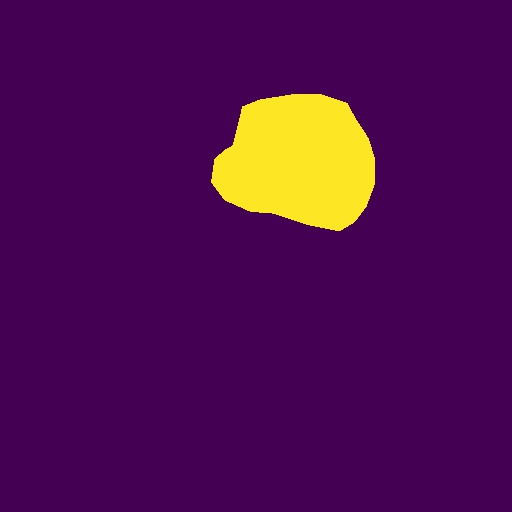Gliomia_tumour: (211, 94, 375, 231)
